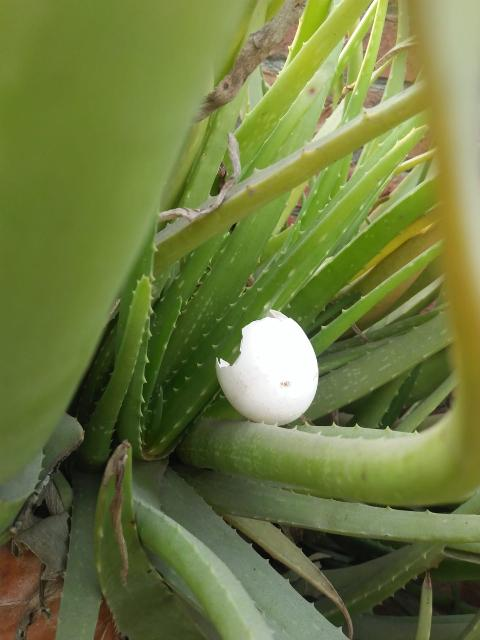Roto: (214, 308, 319, 426)
